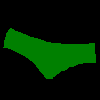mutande: (3, 27, 96, 79)
